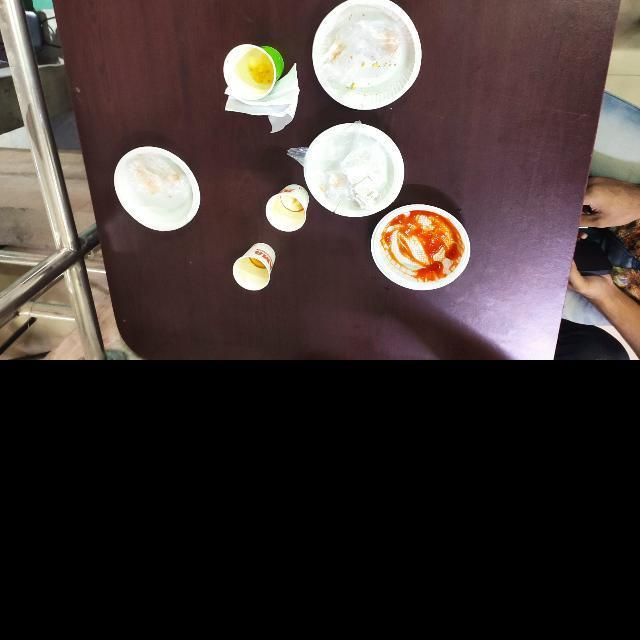kitchen paper: (334, 139, 386, 206)
